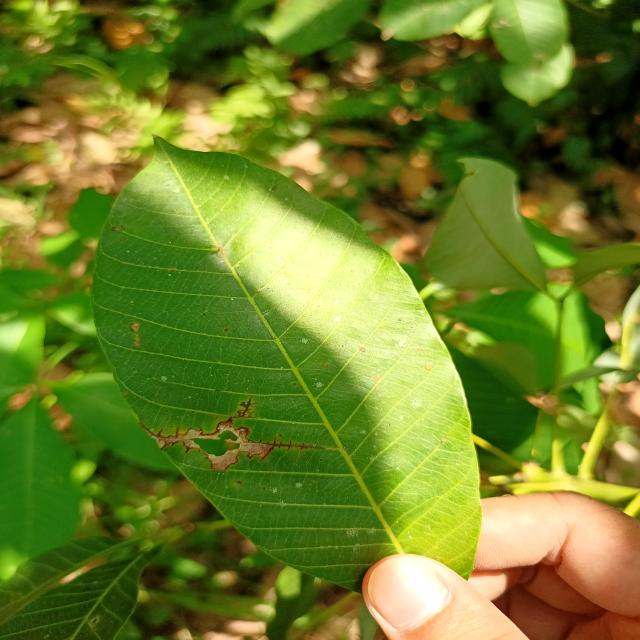Colletotrichum: (278, 434, 282, 437)
Corynespora: (267, 437, 324, 454), (237, 397, 257, 418), (140, 423, 163, 438)
Leaf-Blight: (178, 422, 272, 470), (150, 435, 178, 447)
